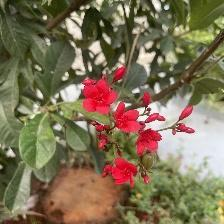jatropha: (83, 78, 119, 117)
